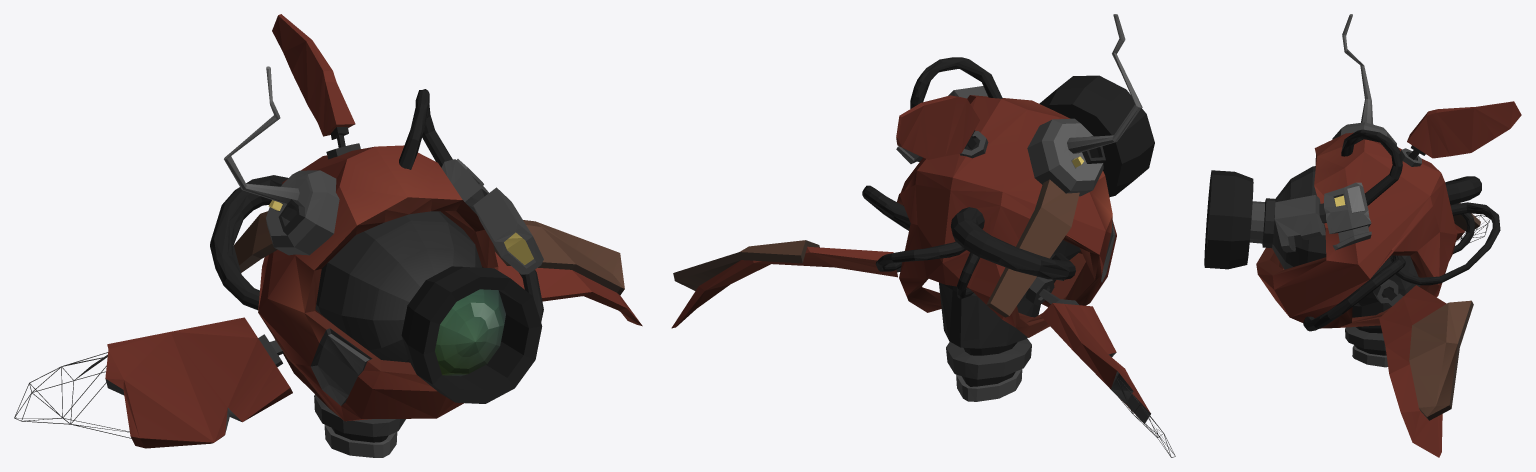
File: Robbie5.fbx
The picture shows the model from 3 angles, left to right: view 1: azimuth 30°, elevation 25°; view 2: azimuth 150°, elevation 25°; view 3: azimuth 270°, elevation 25°; orthographic projection. The views are drawn at different scales.
Parts seen in each view (by area): view 1: Circle.001; view 2: Circle.001; view 3: Circle.001.
Boxes of the visible parts, <box> form: Circle.001: <box>14,14,642,457</box>; Circle.001: <box>671,14,1175,457</box>; Circle.001: <box>1204,14,1521,457</box>.
Bounding box in the file's own units: 325 × 222 × 211.
